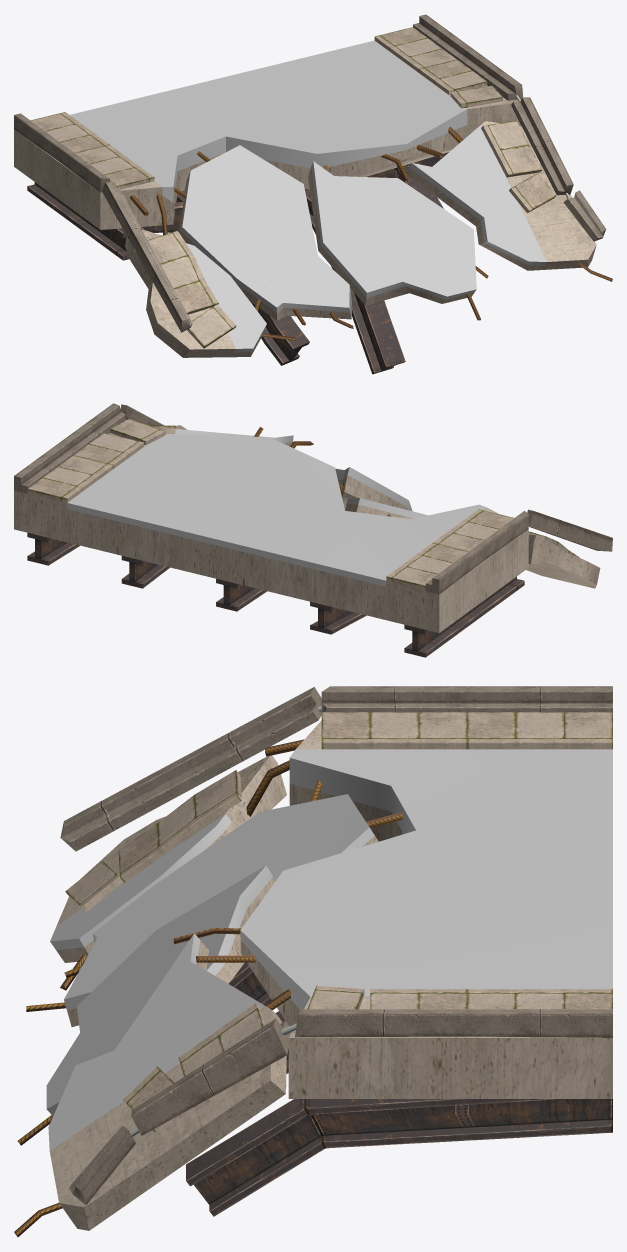
Rendered from street_overpass_C_2.fbx.
The picture shows the model from 3 angles, top to bottom: view 1: azimuth 30°, elevation 25°; view 2: azimuth 150°, elevation 25°; view 3: azimuth 270°, elevation 25°; orthographic projection. The views are drawn at different scales.
Visible parts, largest first — view 1: street_overpass_C; view 2: street_overpass_C; view 3: street_overpass_C.
Boxes of the visible parts, left/top/right/bottom form: street_overpass_C: left=14, top=14, right=612, bottom=374; street_overpass_C: left=14, top=403, right=612, bottom=657; street_overpass_C: left=14, top=686, right=612, bottom=1236.
Size of the model in its own units: 16.92 by 7.22 by 12.34.
